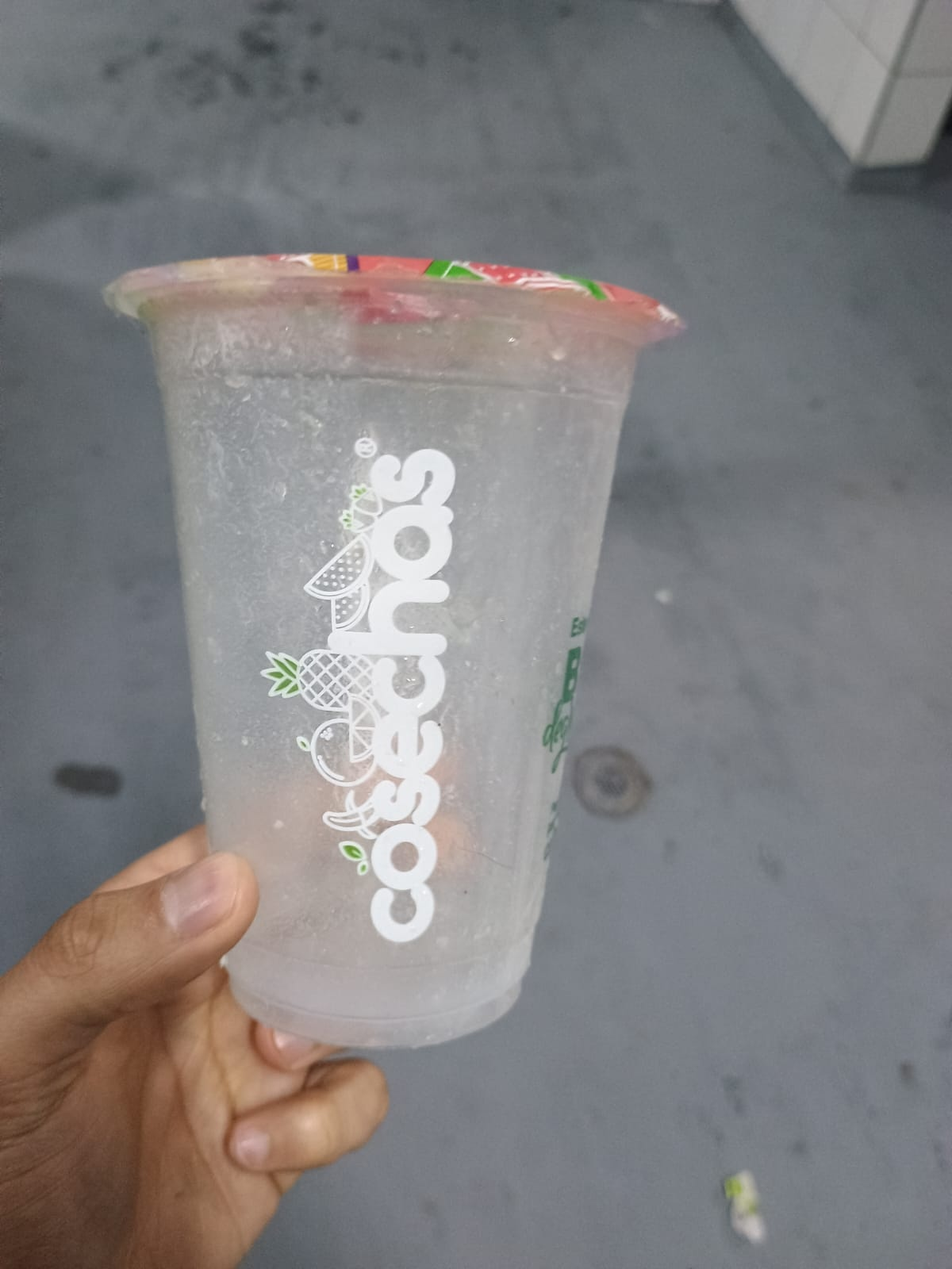Plastico: (104, 258, 690, 1048)
